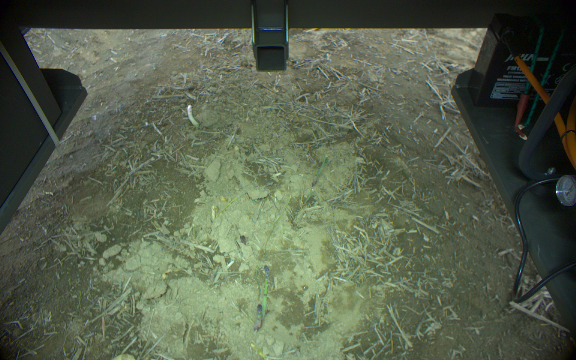aspa: (258, 262, 274, 319), (183, 103, 200, 129), (251, 300, 265, 331)
